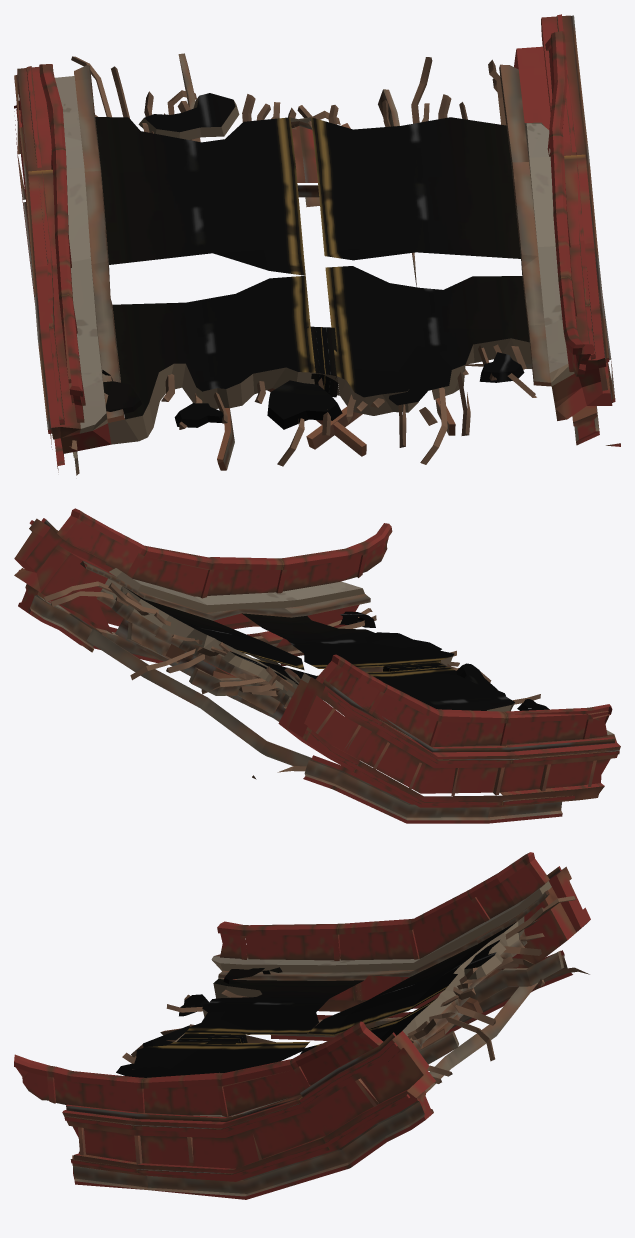
Rendered from HousesCrashedBridge2.obj.
3 views of the same model, one above another, from view 1: azimuth 30°, elevation 25°; view 2: azimuth 150°, elevation 25°; view 3: azimuth 270°, elevation 25° (orthographic). The views are drawn at different scales.
Visible parts, largest first — view 1: Mesh; view 2: Mesh; view 3: Mesh.
Boxes of the visible parts, left/top/right/bottom form: Mesh: left=14, top=14, right=620, bottom=475; Mesh: left=14, top=508, right=620, bottom=823; Mesh: left=14, top=852, right=590, bottom=1199.
Bounding box in the file's own units: 26.31 × 11.23 × 25.77.
